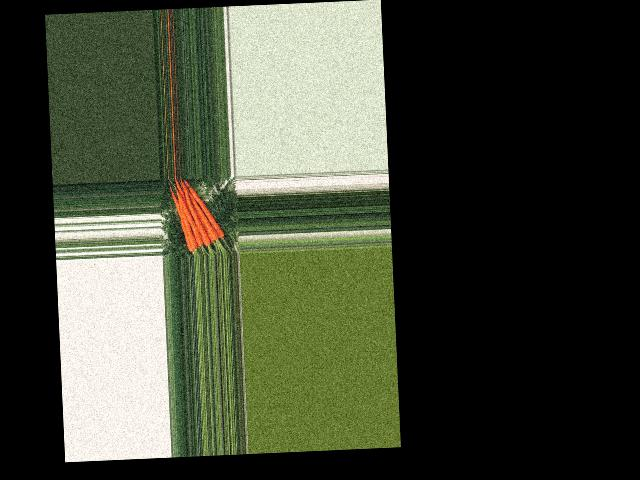carrot: (166, 181, 197, 254)
